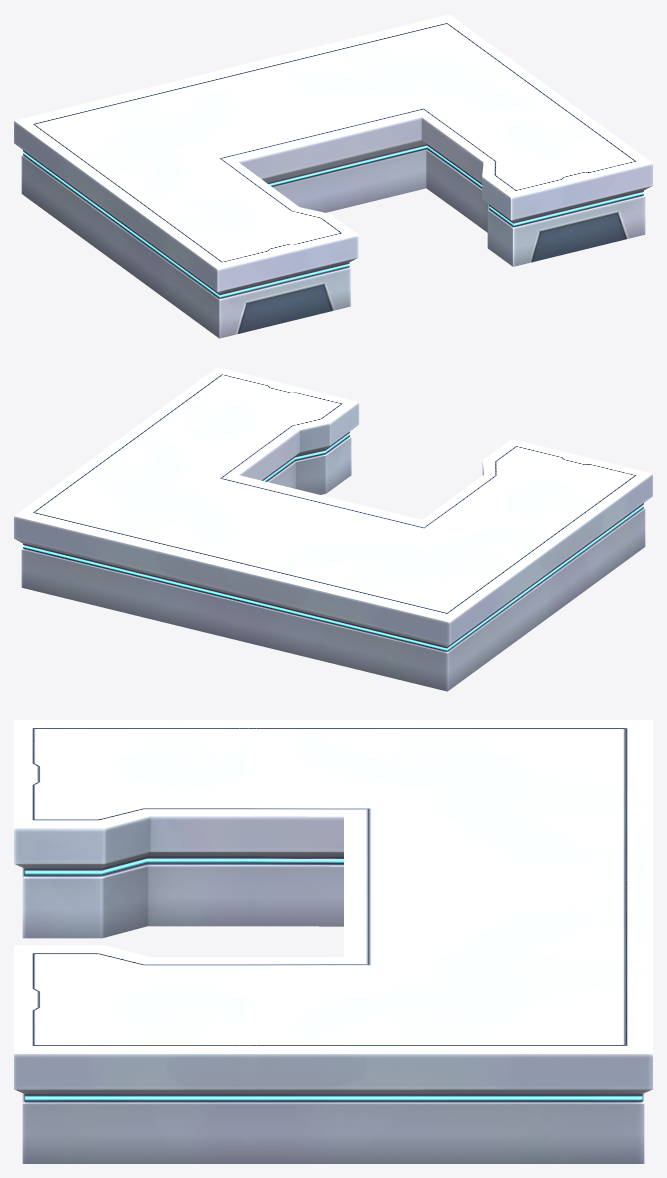
The model's file is obj_btable.gltf.
3 views of the same model, one above another, from view 1: azimuth 30°, elevation 25°; view 2: azimuth 150°, elevation 25°; view 3: azimuth 270°, elevation 25° (orthographic). The views are drawn at different scales.
Visible parts, largest first — view 1: obj_btable; view 2: obj_btable; view 3: obj_btable.
Boxes of the visible parts, x1,y1,x2,y2 form: obj_btable: (14, 14, 652, 338); obj_btable: (14, 367, 652, 691); obj_btable: (14, 720, 652, 1163).
Size of what is drawn, in the model's own units: 4.52 by 0.717 by 3.65.
Materials: 1 (1 with a texture image).
